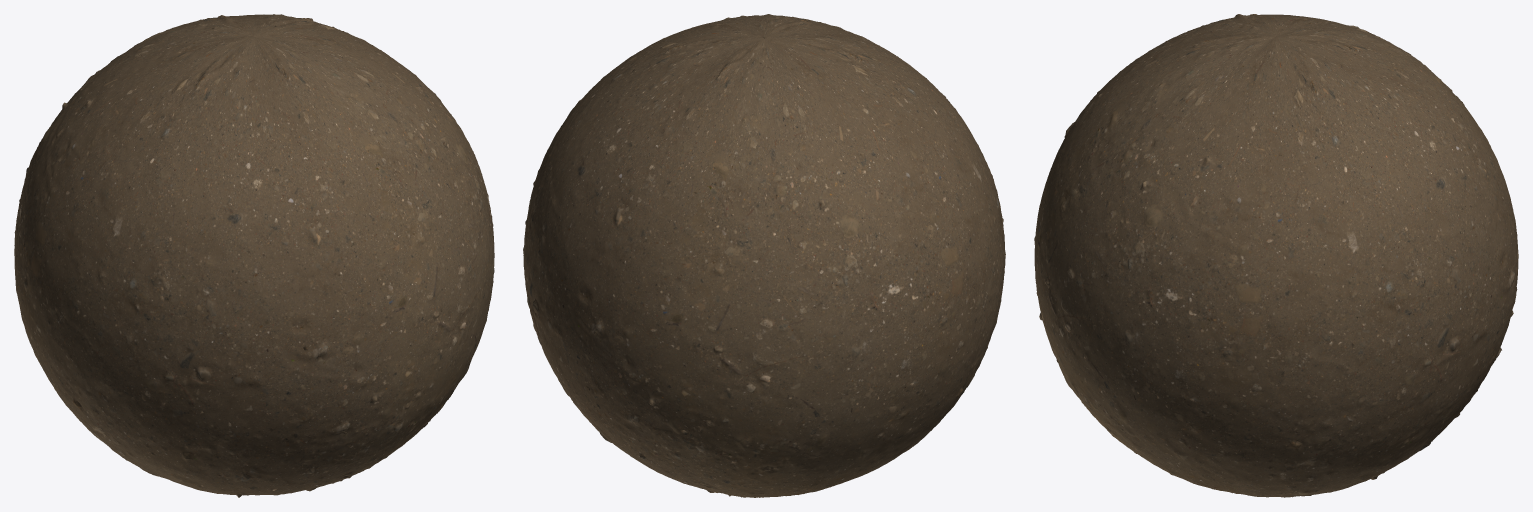
The model's file is dirt_4k.gltf.
3 views of the same model, side by side, from view 1: azimuth 30°, elevation 25°; view 2: azimuth 150°, elevation 25°; view 3: azimuth 270°, elevation 25° (orthographic).
Visible parts, largest first — view 1: sphere_gltf; view 2: sphere_gltf; view 3: sphere_gltf.
Part boxes in pixels (x1,y1,x2,y2): sphere_gltf: [14, 14, 494, 497]; sphere_gltf: [523, 14, 1005, 497]; sphere_gltf: [1034, 14, 1518, 497].
Bounding box in the file's own units: 2 × 2 × 2.
Materials: 1 (1 with a texture image).
